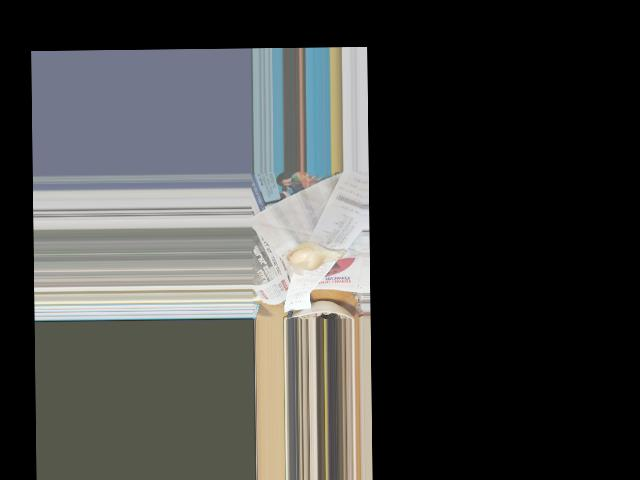onion: (288, 235, 342, 272)
